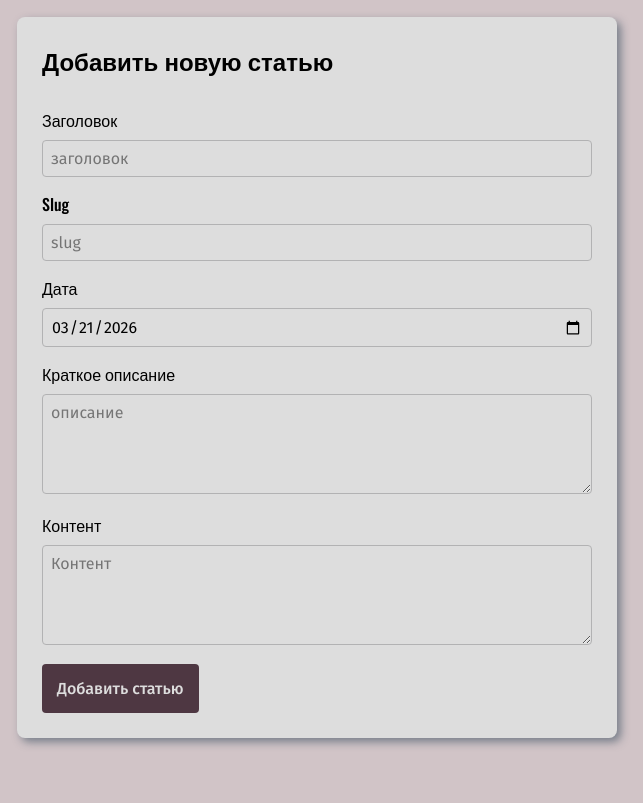
Scenario: AddForm › отправляет форму и показывает сообщение об успехе
The image size is (643, 803).
In the field labelled "Заголовок": coordinates (317, 158) [42,140,592,177], type "Тест"
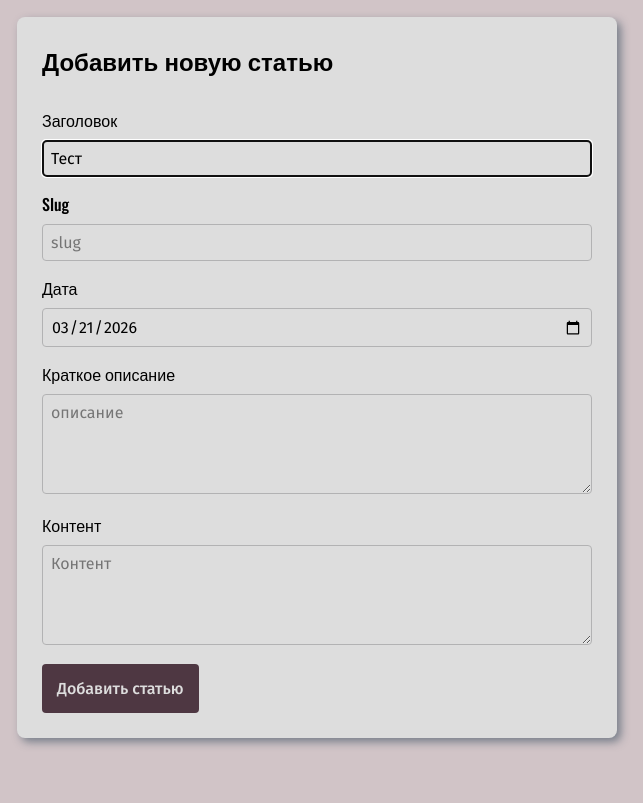
In the field labelled "Slug": coordinates (317, 242) [42,224,592,261], type "test-article"
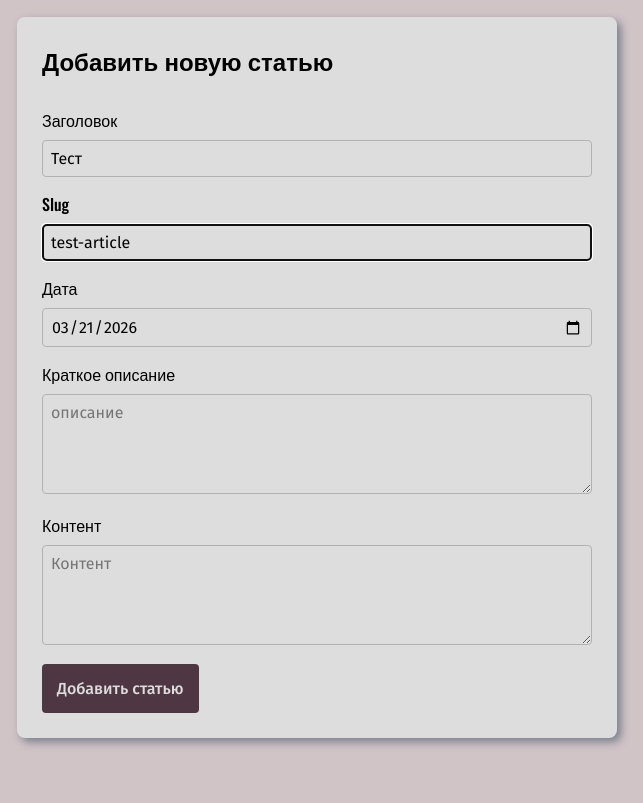
In the text box labelled "Контент": coordinates (317, 595) [42,545,592,645], type "Test content"
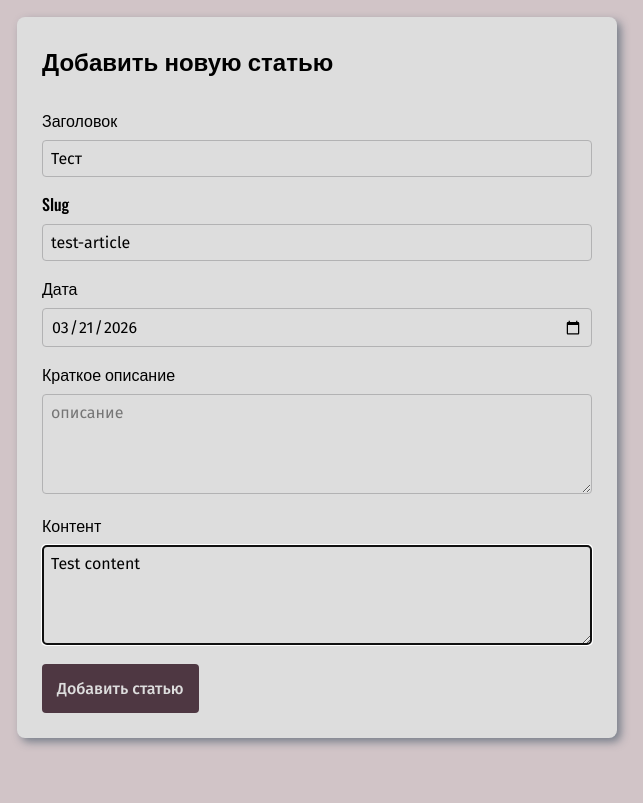
Click the button "Добавить статью": coordinates (120, 688) [42,664,199,713]
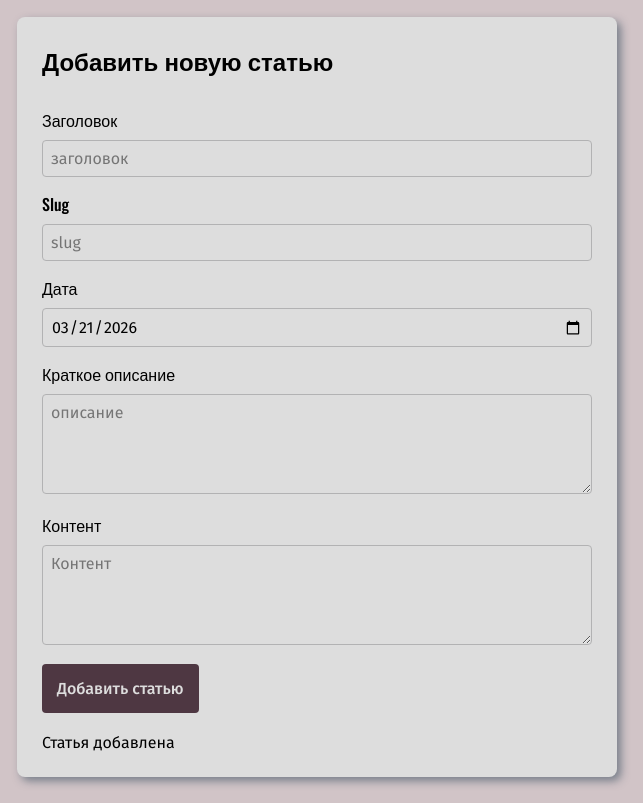
Now the text "Статья добавлена" is shown, box [42,733,175,752]
